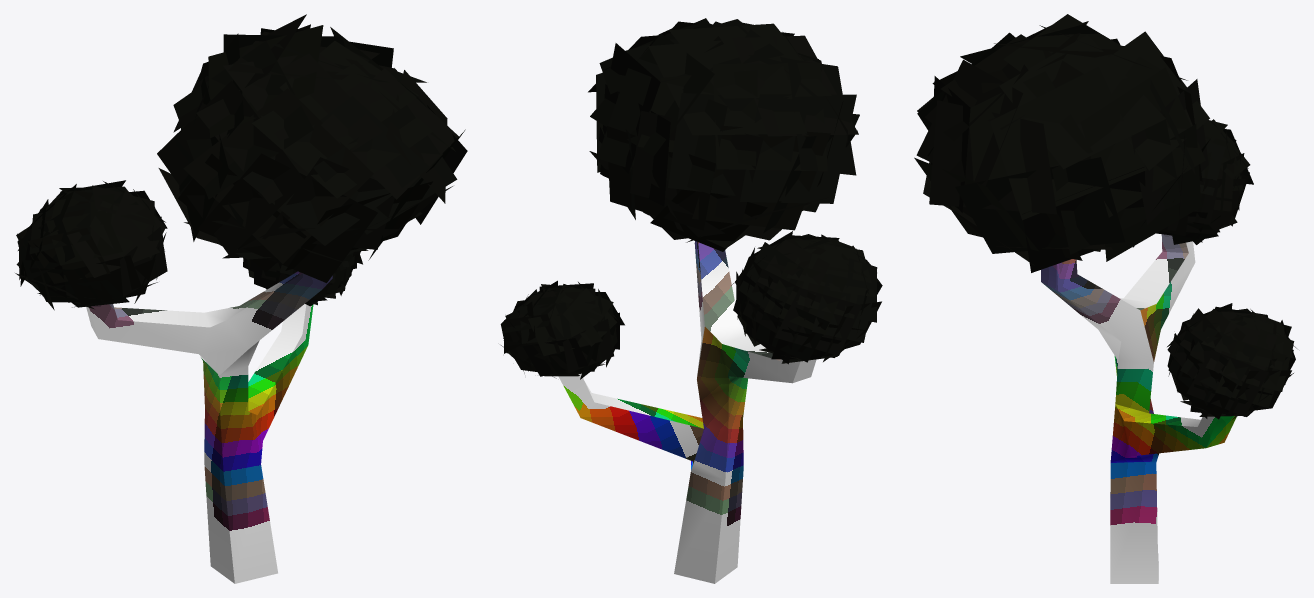
File: TreeThreeColours_fluffy.fbx
The picture shows the model from 3 angles, left to right: view 1: azimuth 30°, elevation 25°; view 2: azimuth 150°, elevation 25°; view 3: azimuth 270°, elevation 25°; orthographic projection. The views are drawn at different scales.
Visible parts, largest first — view 1: TreeThreeColoursFluffy; view 2: TreeThreeColoursFluffy; view 3: TreeThreeColoursFluffy.
Part boxes in pixels (x1,y1,x2,y2): TreeThreeColoursFluffy: (15, 14, 467, 583); TreeThreeColoursFluffy: (500, 18, 882, 583); TreeThreeColoursFluffy: (914, 14, 1296, 583).
Bounding box in the file's own units: 192 × 277 × 178.
